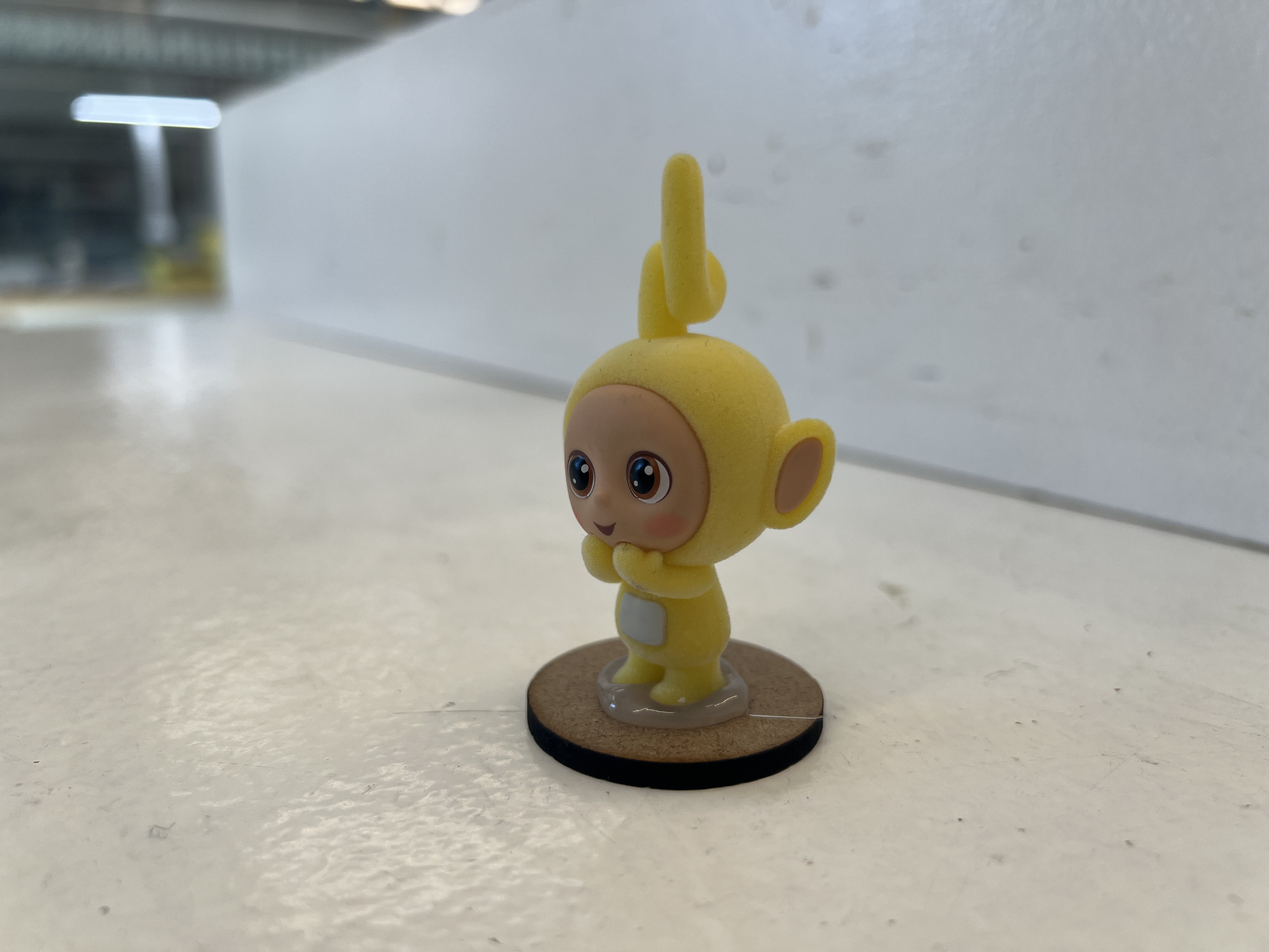teletubby: (564, 155, 835, 706)
